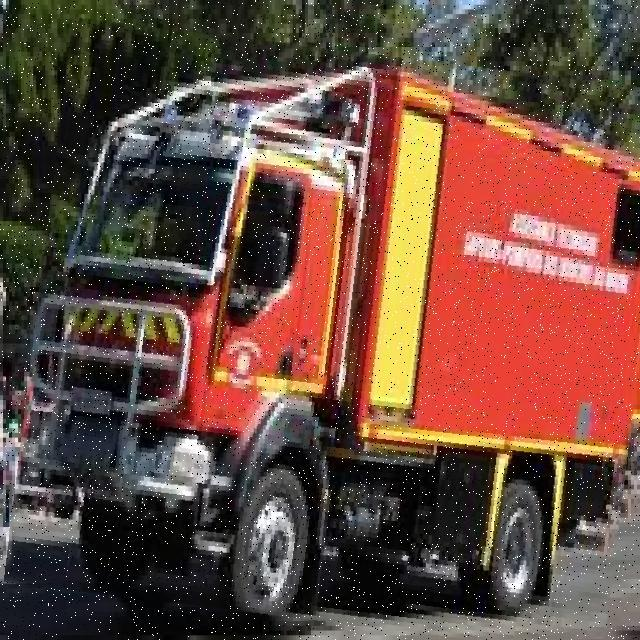pompier: (20, 34, 640, 638)
